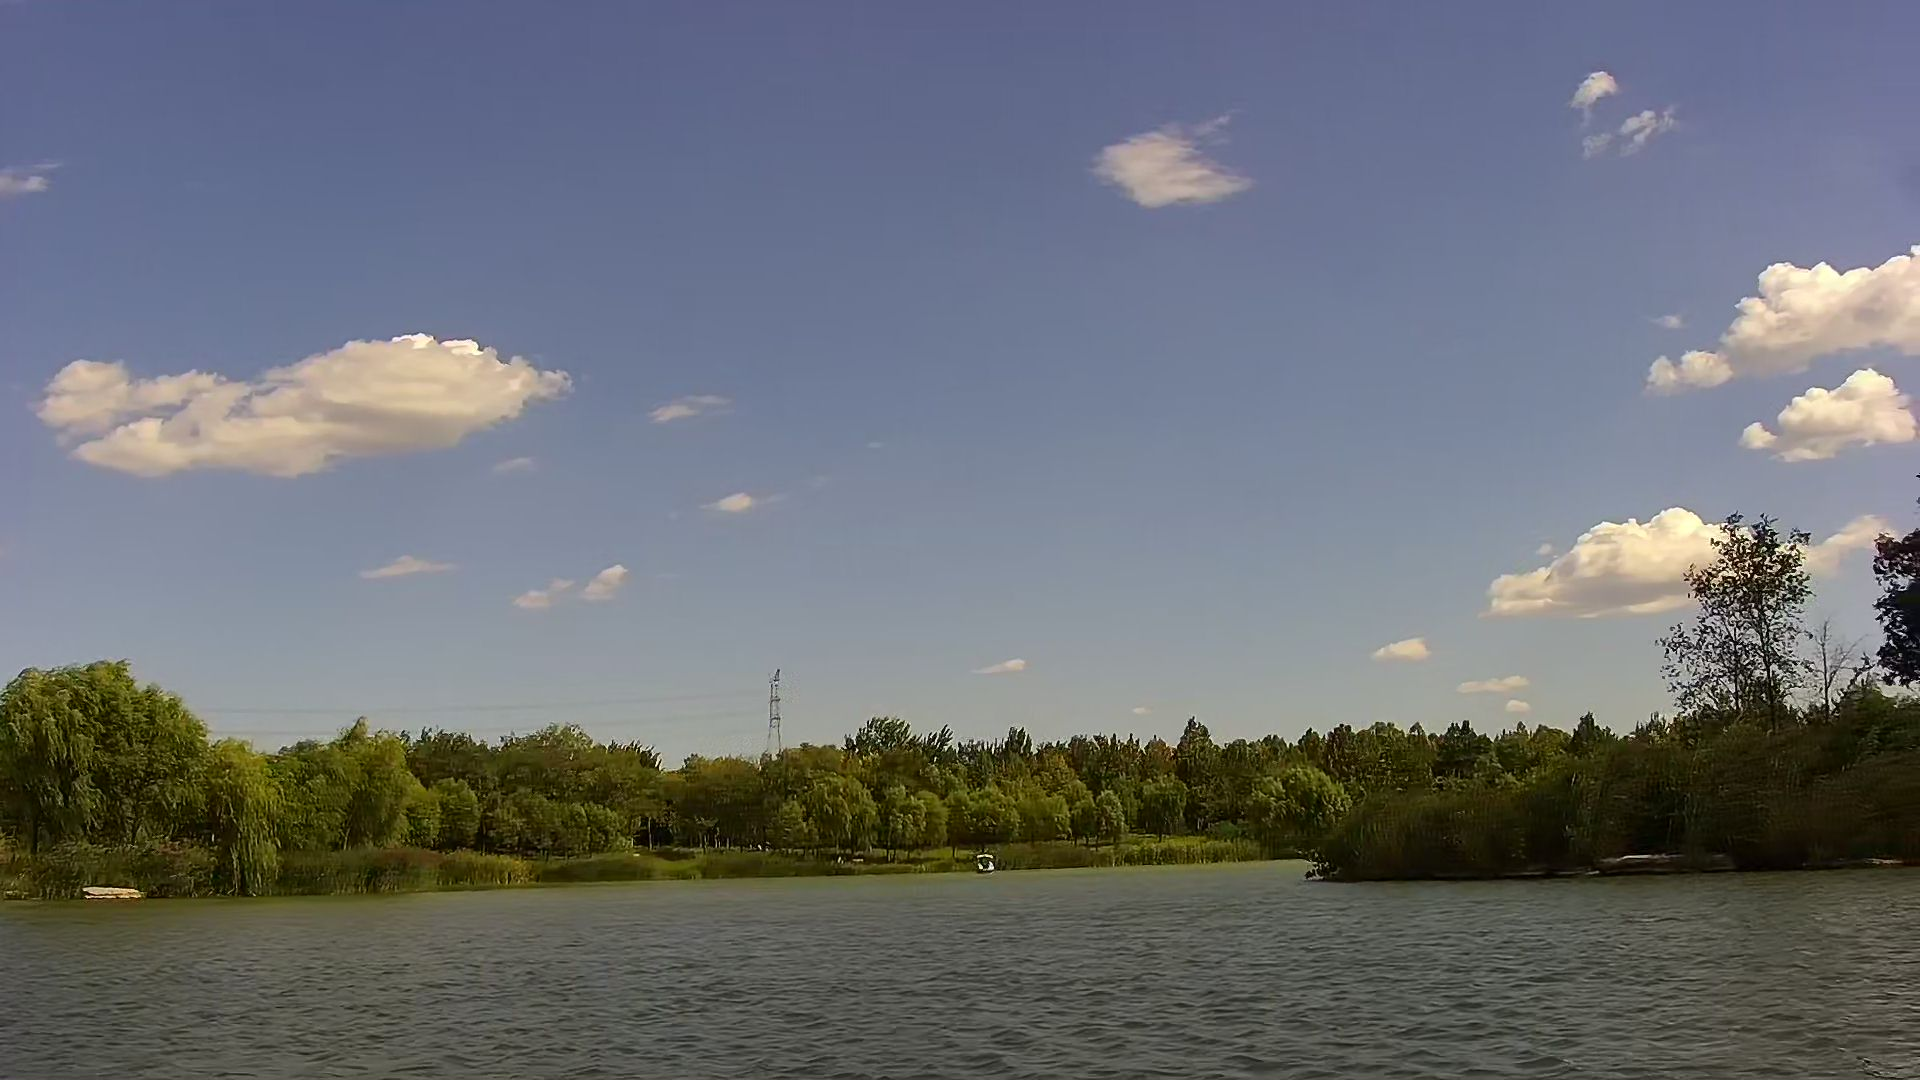boat: (975, 855, 990, 870)
rock: (1617, 847, 1692, 877), (80, 881, 138, 901), (1871, 851, 1894, 868)
